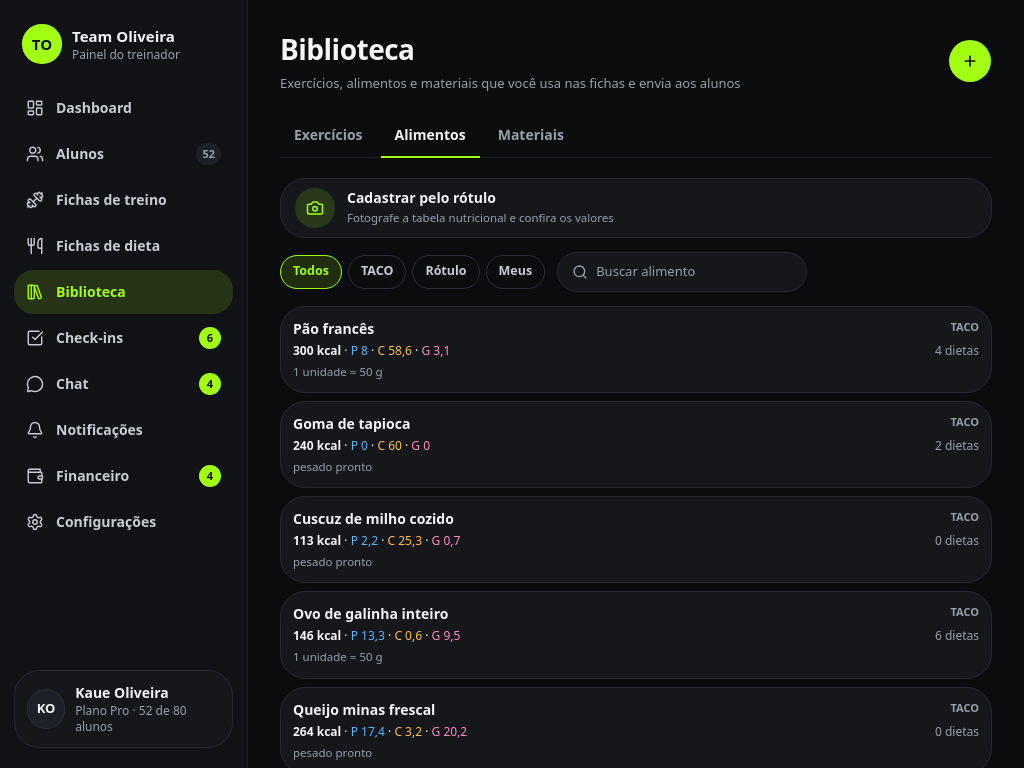
Test: Biblioteca (celular) › alimentos e materiais
Expected: the list item that starts with "Pão francês" is shown, [293,318,374,338]
Expected: the list item that starts with "Pão francês" shows "1 unidade = 50 g", [293,364,383,378]
What coordinates should you click on to do the following:
click the radio button labelled "Rótulo"
I would click on:
 (446, 272)
Its box is [412,254,480,288].
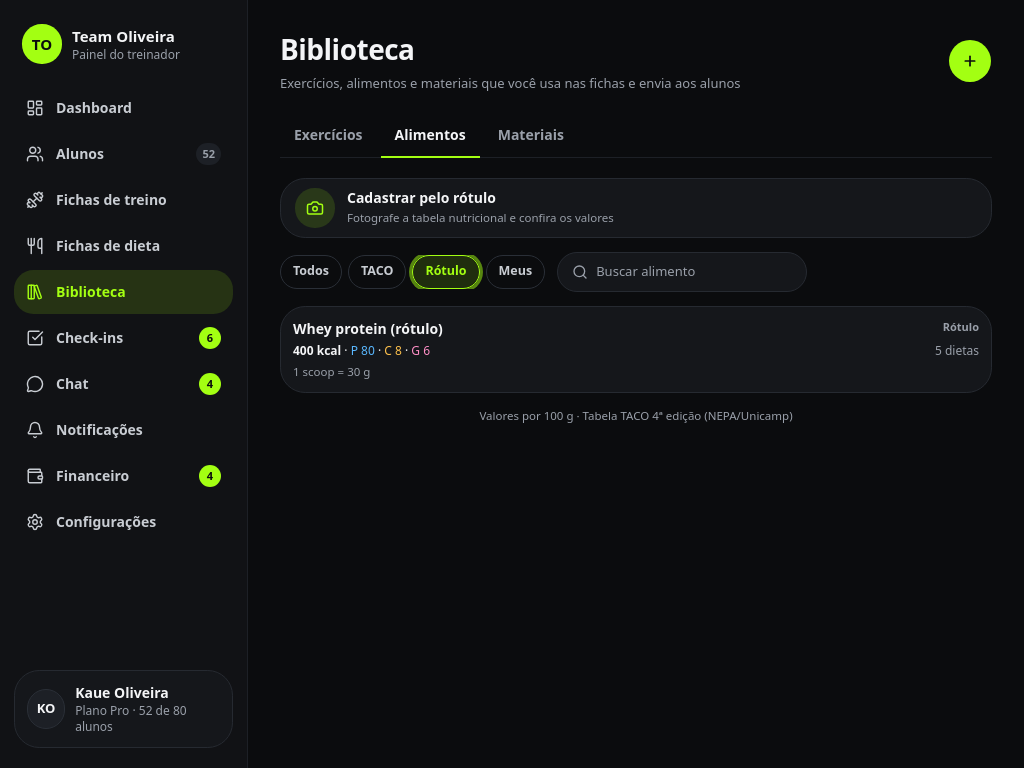
What coordinates should you click on to do the following:
click the tab "Materiais"
I would click on:
 (531, 136)
Its box is [484,114,578,158].
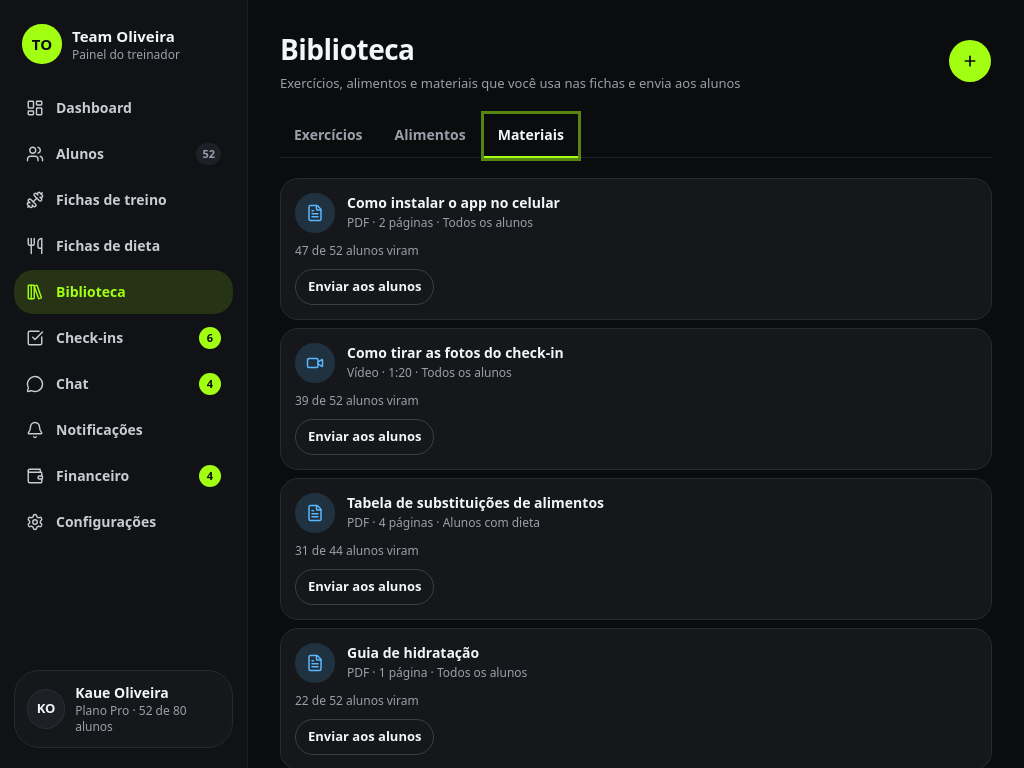
What coordinates should you click on to do the following:
click the button "Enviar aos alunos" below "Como instalar o app no celular"
I would click on:
 (365, 286)
Its box is [295,268,434,304].
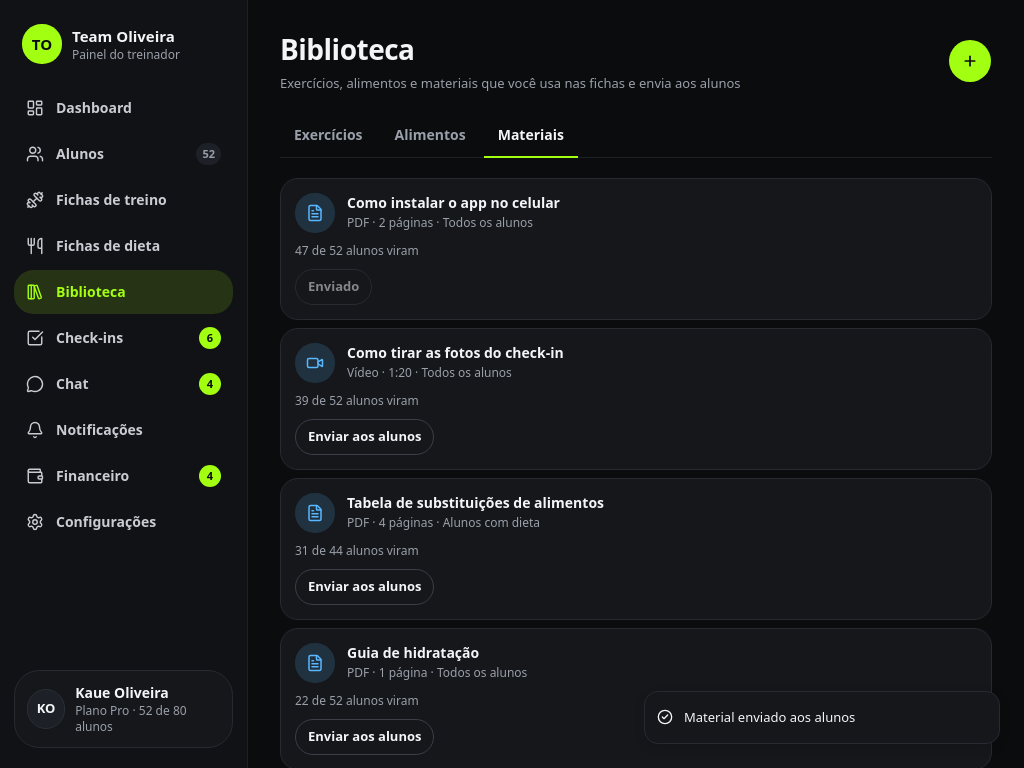
Now the text "Material enviado aos alunos" is shown, box [684,708,855,727]
